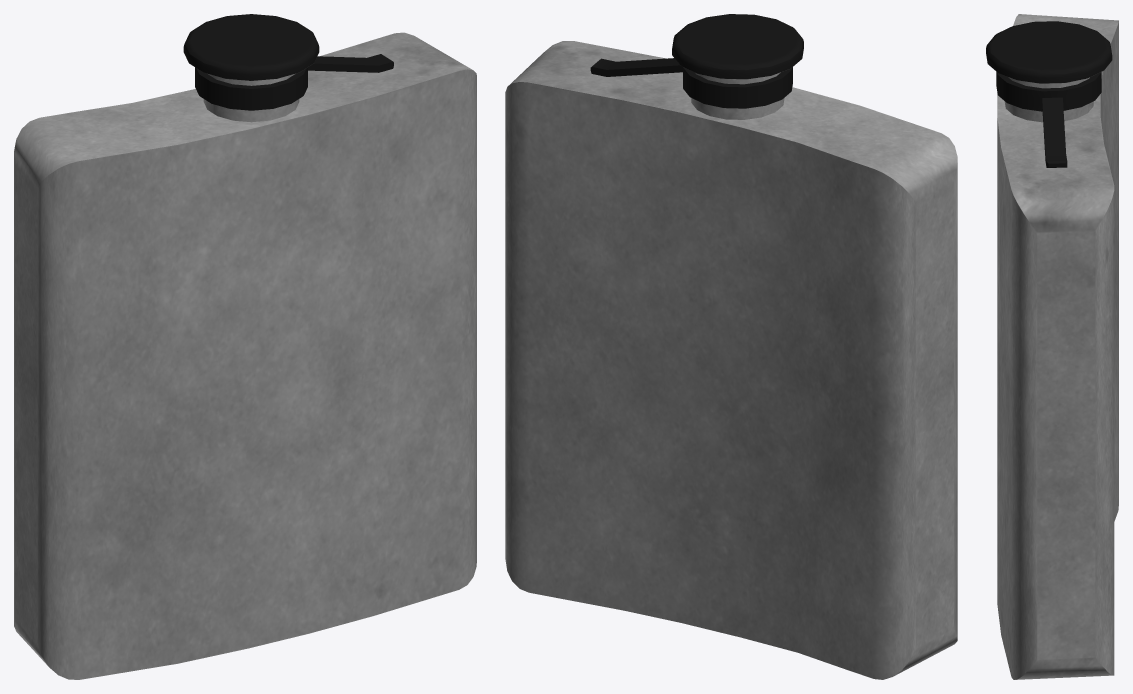
Rendered from cantil texturizado.fbx.
3 renders of one model, left to right at view 1: azimuth 30°, elevation 25°; view 2: azimuth 150°, elevation 25°; view 3: azimuth 270°, elevation 25°, orthographic. The views are drawn at different scales.
Visible parts, largest first — view 1: Cantil, pCylinder1; view 2: Cantil, pCylinder1; view 3: Cantil, pCylinder1.
Part boxes in pixels (left/top/right/bottom): Cantil: left=14, top=32, right=476, bottom=679; pCylinder1: left=183, top=14, right=393, bottom=122; Cantil: left=505, top=41, right=957, bottom=679; pCylinder1: left=590, top=14, right=803, bottom=119; Cantil: left=997, top=14, right=1118, bottom=679; pCylinder1: left=986, top=21, right=1112, bottom=167.
Size of the model in its own units: 5.47 by 7.01 by 1.55.
Materials: 1 (1 with a texture image).
